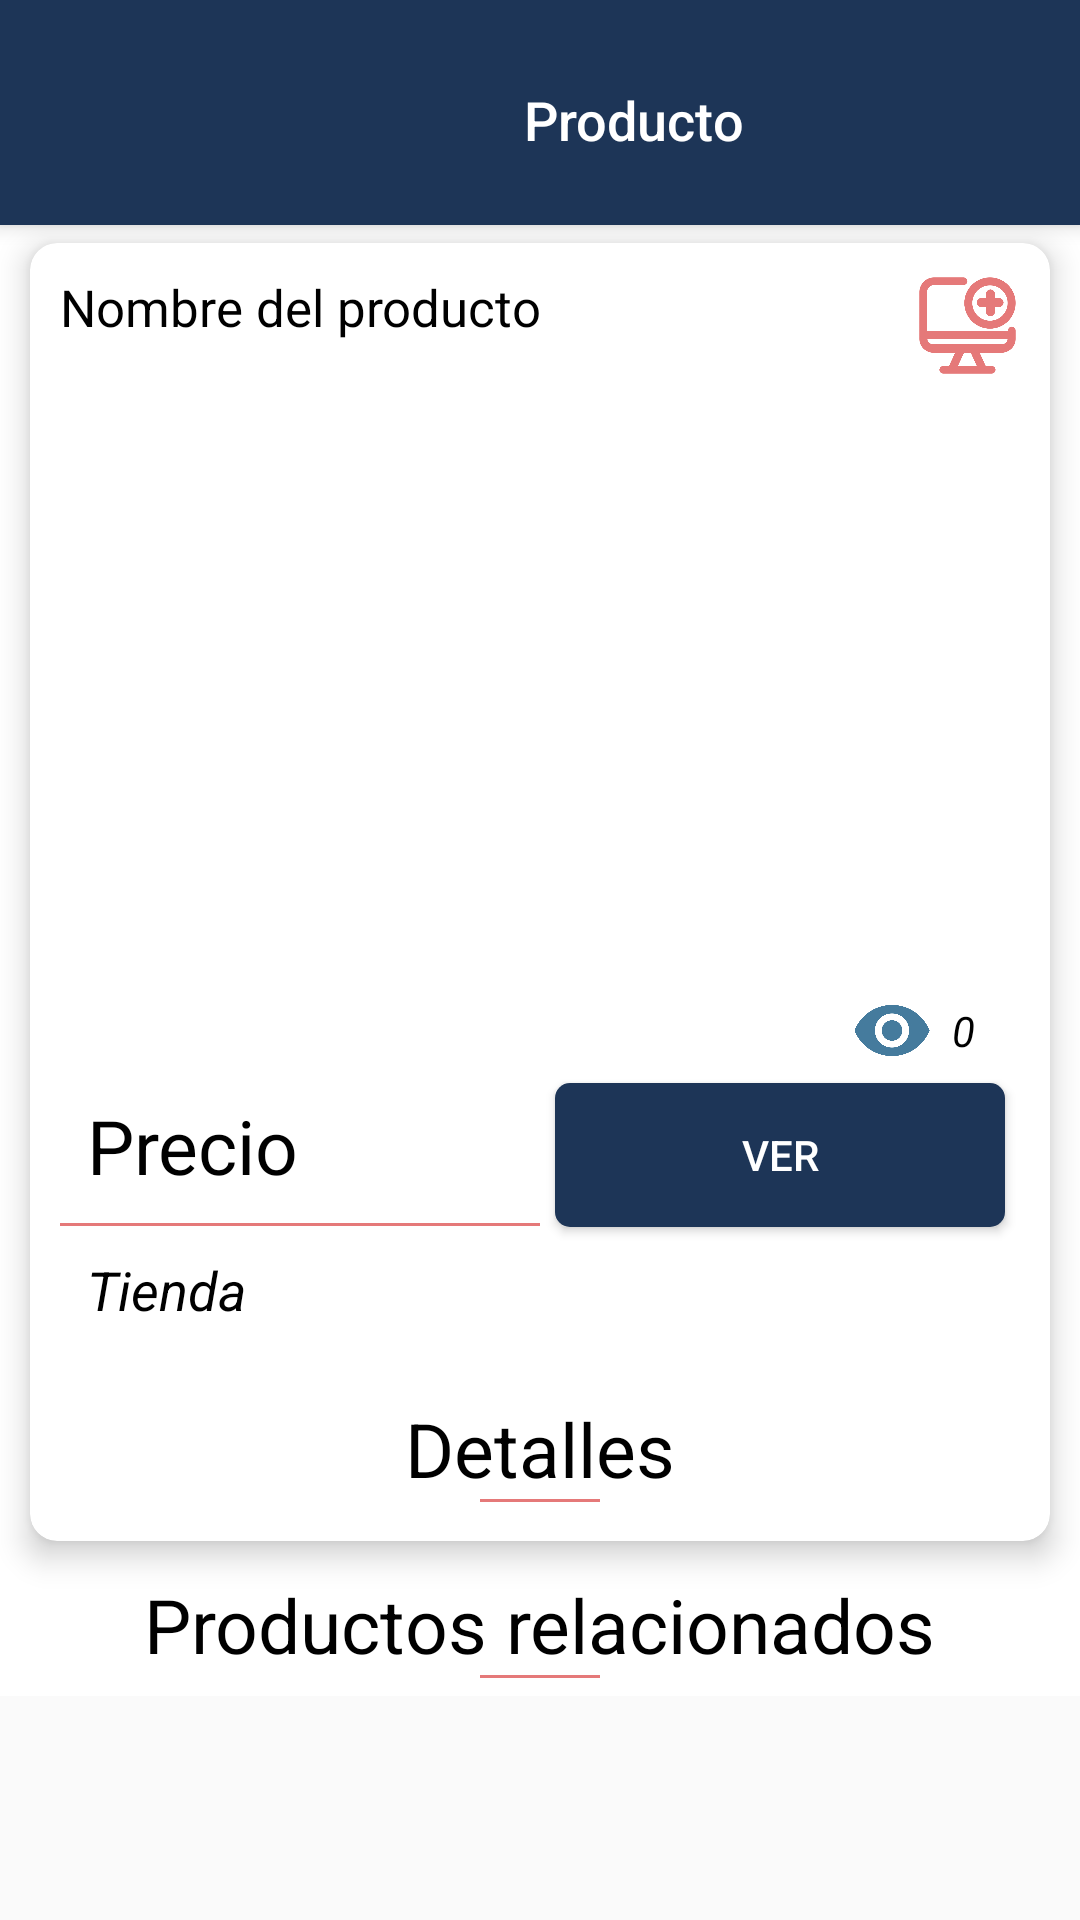

Locate icon controls on the screen. Image size 1080px x 1920px, boxes as (x1, y1, x2, y2).
add: (919, 277, 1016, 374)
de visibilidad: (855, 1005, 930, 1056)
